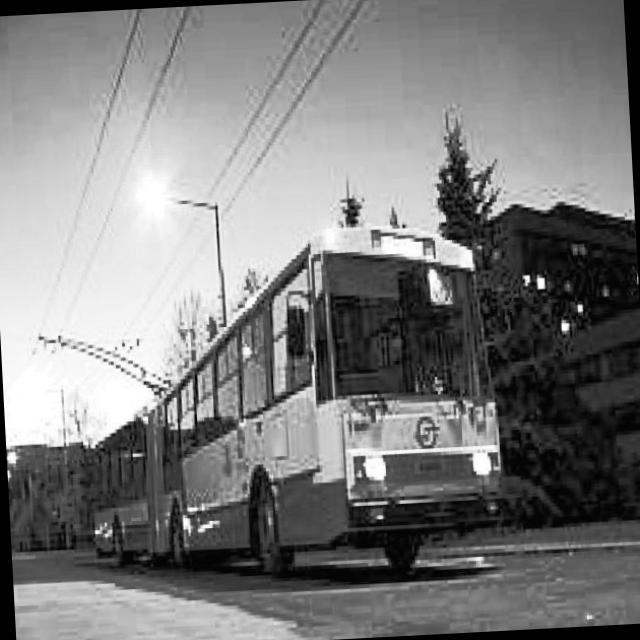Bus: (69, 221, 516, 615)
